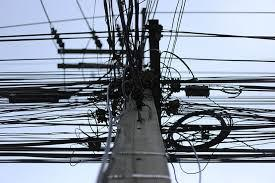wires-only: (163, 79, 275, 164), (0, 78, 110, 164), (105, 0, 189, 78)
